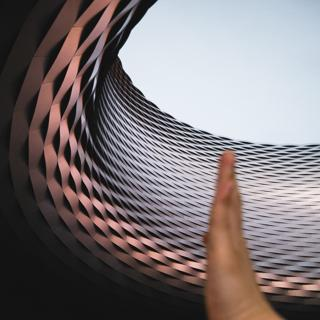RIGHT: (194, 144, 273, 320)
